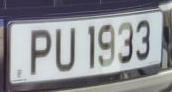1: (82, 18, 100, 77)
3: (116, 17, 135, 67), (135, 17, 153, 61)
9: (96, 18, 118, 73)
P: (27, 24, 55, 78)
U: (53, 22, 80, 77)
